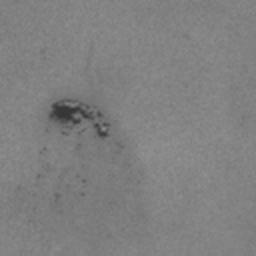Iron sheet ash: (48, 98, 111, 140)
